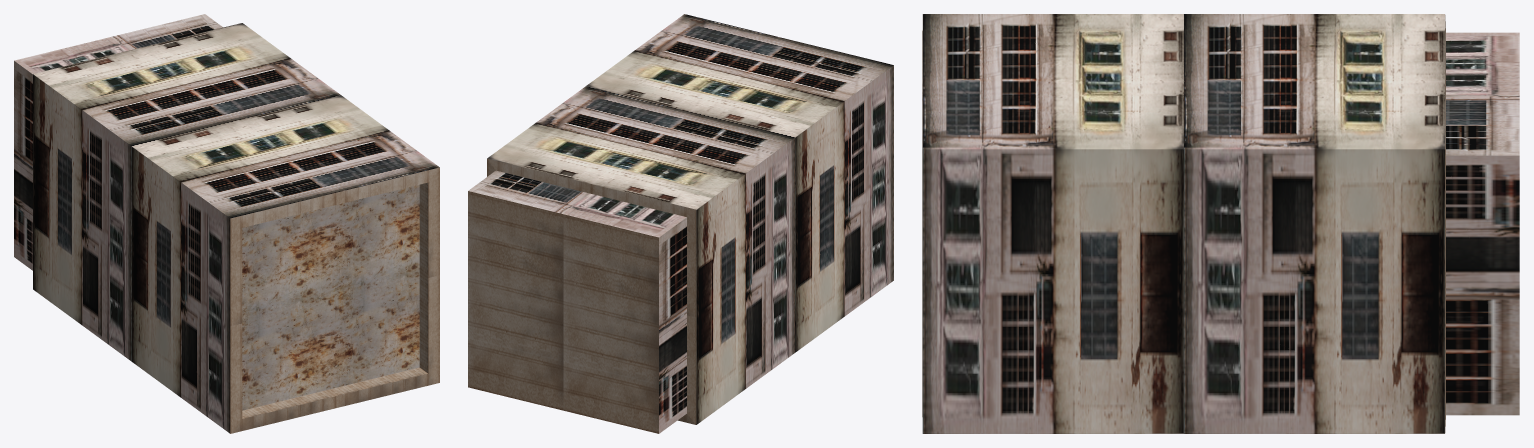
Rendered from urbanoffice3a_wtf.obj.
The picture shows the model from 3 angles, left to right: view 1: azimuth 30°, elevation 25°; view 2: azimuth 150°, elevation 25°; view 3: azimuth 270°, elevation 25°; orthographic projection. The views are drawn at different scales.
Visible parts, largest first — view 1: group5, group4, group3; view 2: group5, group3; view 3: group5, group3.
Boxes of the visible parts, bbox=[...] form: group5: bbox=[14, 14, 439, 433]; group4: bbox=[242, 184, 419, 410]; group3: bbox=[230, 167, 439, 433]; group5: bbox=[468, 14, 893, 433]; group3: bbox=[468, 158, 696, 433]; group5: bbox=[922, 14, 1519, 433]; group3: bbox=[922, 15, 1445, 432].
Size of the model in its own units: 354 by 347 by 660.
